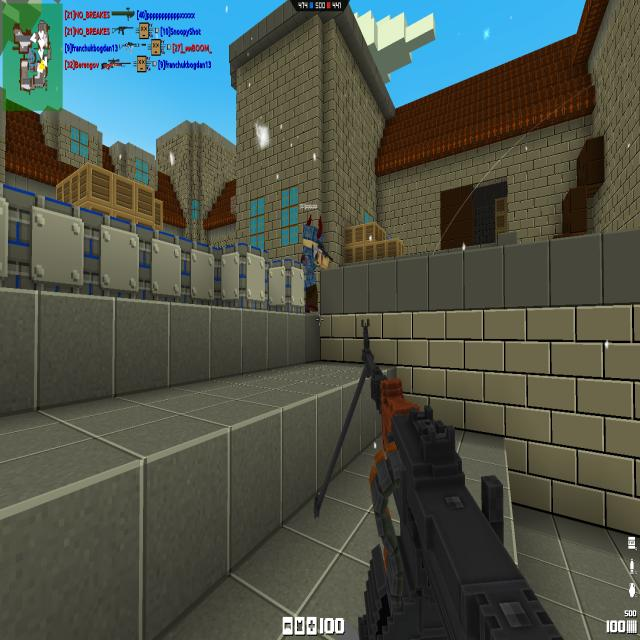player: (299, 211, 326, 314)
